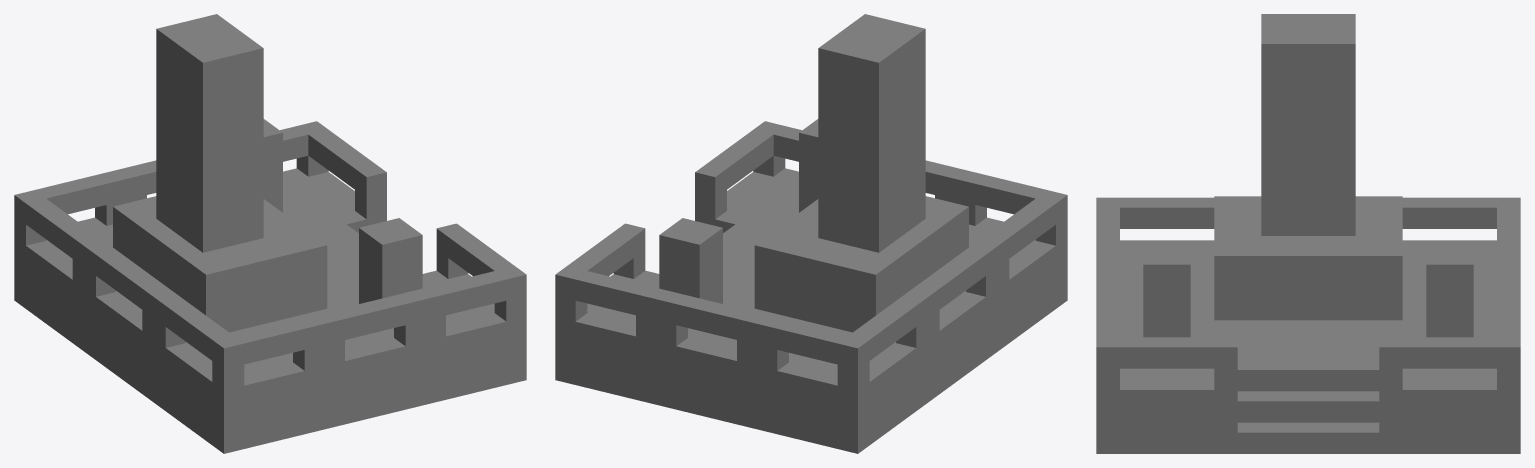
Rendered from haka.obj.
3 renders of one model, left to right at view 1: azimuth 30°, elevation 25°; view 2: azimuth 150°, elevation 25°; view 3: azimuth 270°, elevation 25°, orthographic.
Size of the model in its own units: 15 by 15 by 18.
Materials: 1 (1 with a texture image).
